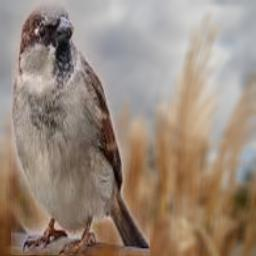Sparrow: (11, 0, 150, 255)
